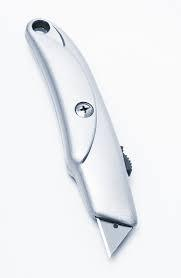Knife: (25, 16, 139, 259)
